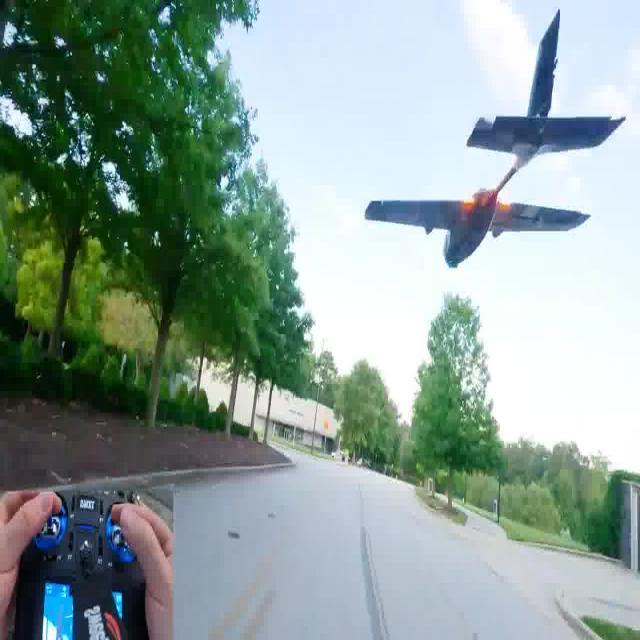iha: (356, 14, 629, 273)
